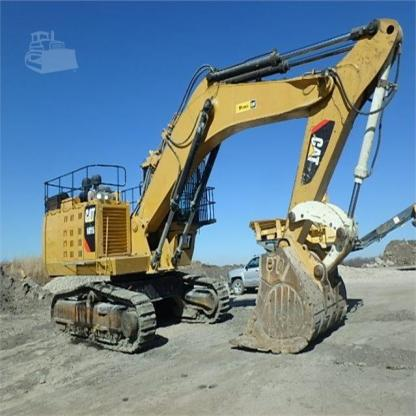excavator: (27, 13, 386, 367)
